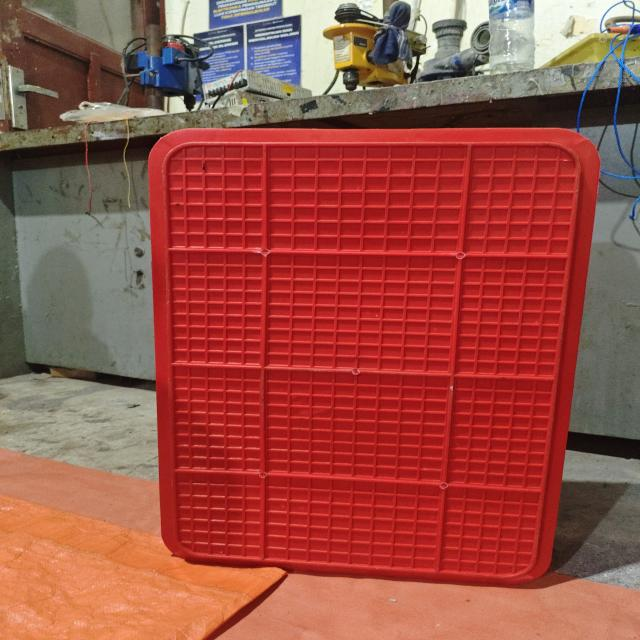red plastic box: (148, 127, 601, 586)
